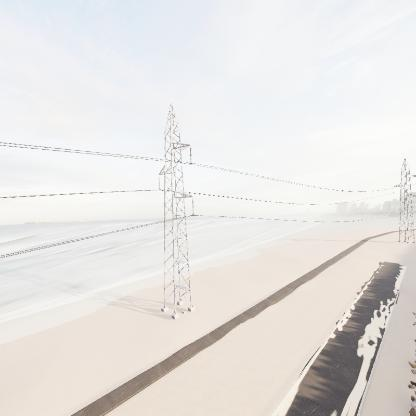tower: (144, 100, 205, 323)
